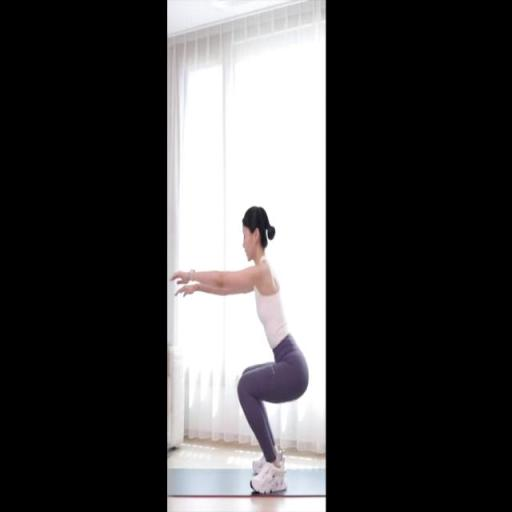Normal_BrenchPress: (170, 205, 310, 497)
